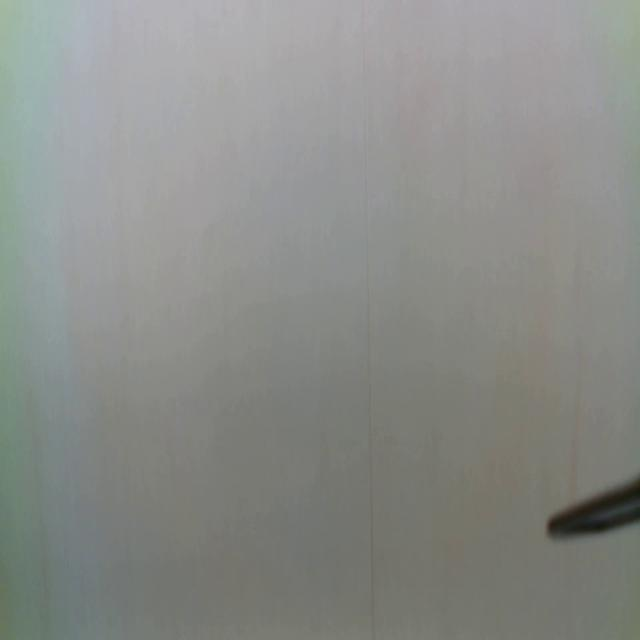crease: (361, 0, 376, 640)
